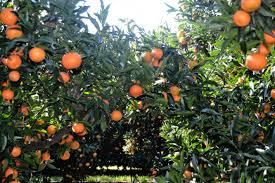orange: (61, 52, 82, 71), (127, 83, 143, 97), (70, 120, 86, 133), (109, 110, 124, 122)
